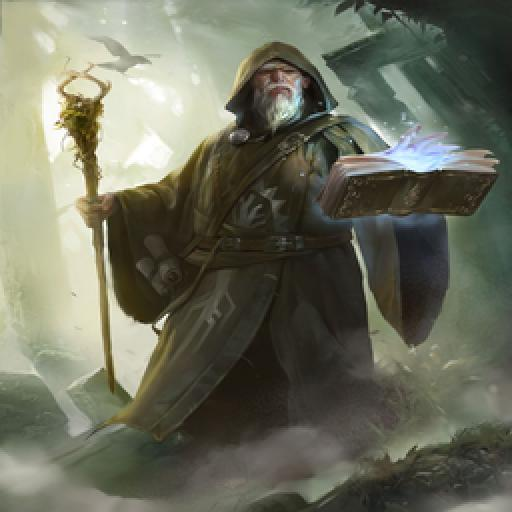wizards: (74, 41, 460, 444)
